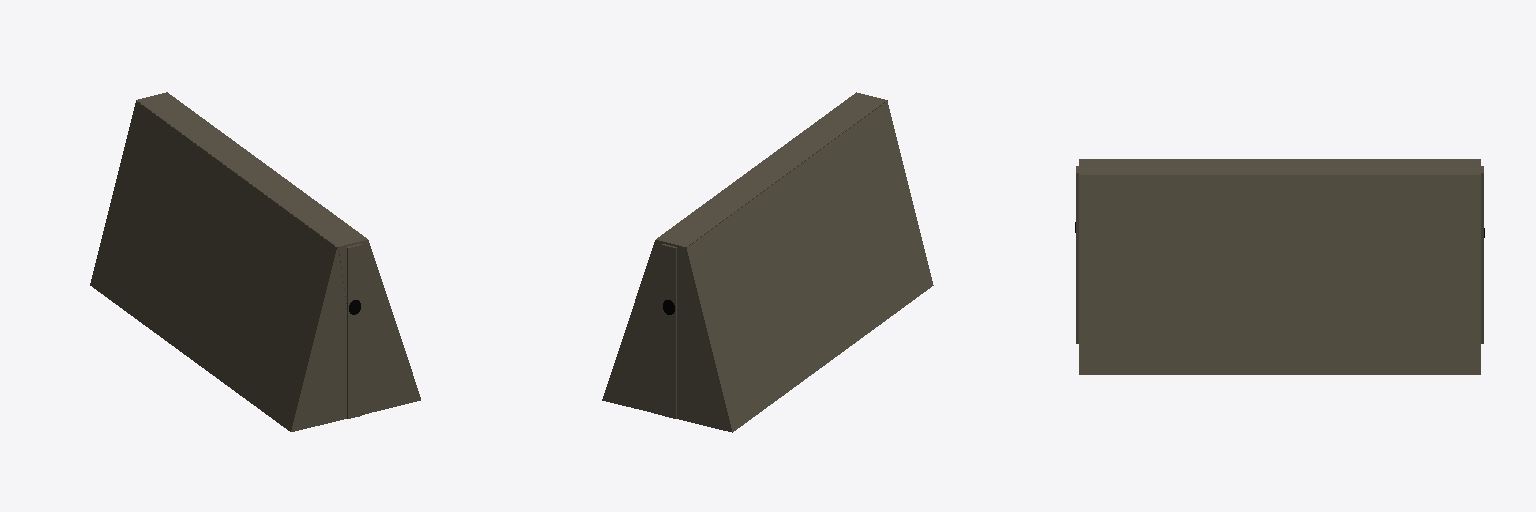
File: guardrail03.obj
3 views of the same model, side by side, from view 1: azimuth 30°, elevation 25°; view 2: azimuth 150°, elevation 25°; view 3: azimuth 270°, elevation 25° (orthographic).
Visible parts, largest first — view 1: Cube; view 2: Cube; view 3: Cube.
Part boxes in pixels (bbox=[...]): Cube: bbox=[90, 92, 420, 431]; Cube: bbox=[602, 92, 933, 432]; Cube: bbox=[1075, 159, 1484, 374].
Size of the model in its own units: 1.79 by 2.28 by 4.85.